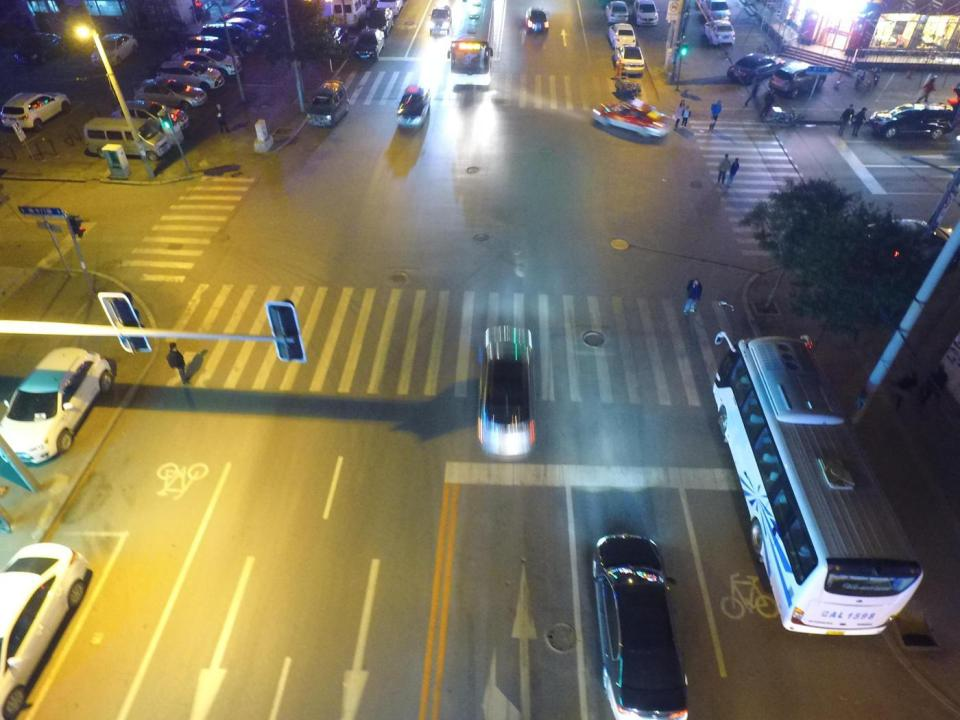bus: (709, 332, 925, 640), (448, 0, 494, 87)
car: (593, 534, 687, 720), (0, 541, 93, 719), (1, 348, 113, 466), (473, 324, 534, 462), (849, 219, 957, 280), (592, 100, 672, 143), (871, 99, 954, 137), (1, 91, 70, 132), (110, 100, 188, 134), (307, 79, 351, 125), (172, 49, 241, 78), (770, 60, 826, 95), (156, 62, 223, 91), (203, 23, 263, 54), (136, 80, 207, 105), (725, 53, 780, 85), (91, 34, 139, 69), (396, 84, 429, 130), (188, 36, 244, 62), (16, 32, 58, 65), (312, 23, 350, 59), (222, 16, 274, 37), (354, 28, 385, 60), (613, 45, 645, 76), (224, 7, 270, 26), (608, 22, 636, 50), (522, 6, 548, 36), (705, 19, 735, 45), (428, 4, 452, 36), (368, 7, 394, 36), (633, 0, 659, 25), (705, 0, 731, 22), (605, 1, 629, 23)
van: (83, 117, 171, 162), (378, 0, 403, 19)
